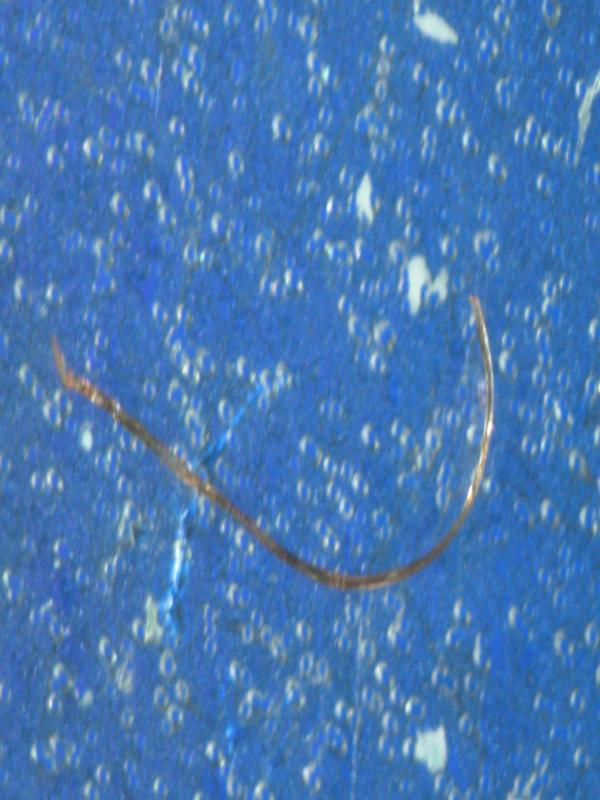microplastic: (1, 1, 598, 797), (50, 293, 495, 593)
